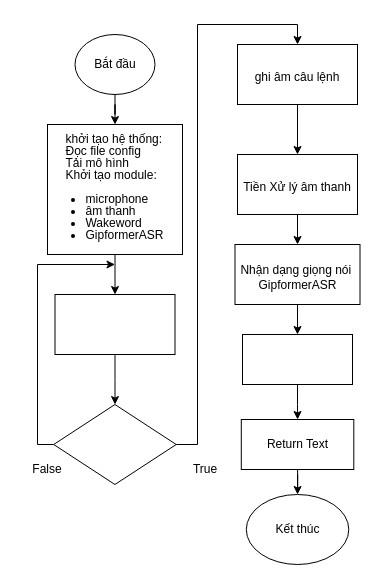
This 377x582 diagram has some shape labels left out. Here are the shapes that lost their labels. From the top down, the box of each, then its label:
(54, 294, 175, 354): Trạng thái chờ Wakeword
(242, 334, 352, 384): Hậu xử lý dữ liệu
(53, 404, 176, 484): có Wakeword
